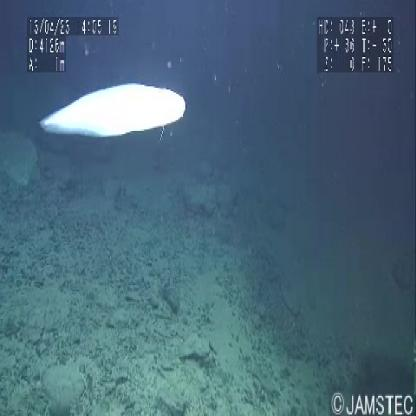Bio: (35, 79, 189, 143)
